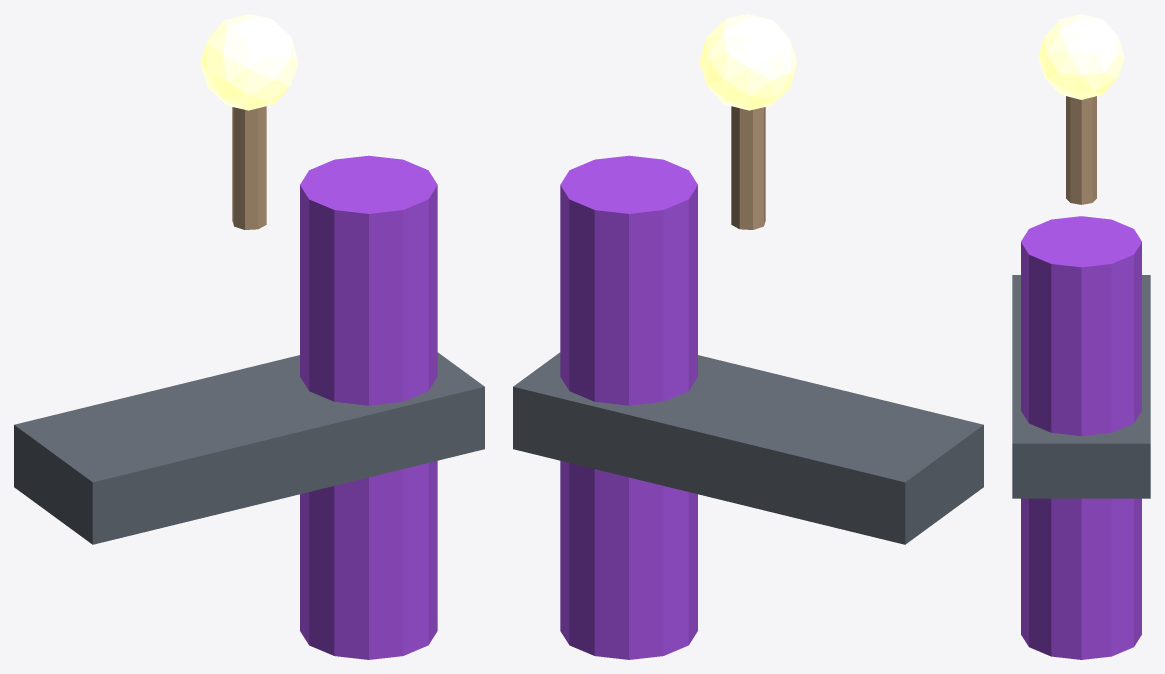
Rendered from dinamita2.glb.
3 views of the same model, side by side, from view 1: azimuth 30°, elevation 25°; view 2: azimuth 150°, elevation 25°; view 3: azimuth 270°, elevation 25° (orthographic). The views are drawn at different scales.
Visible parts, largest first — view 1: cartucho, cinta, chispa, mecha; view 2: cartucho, cinta, chispa, mecha; view 3: cartucho, cinta, chispa, mecha.
Boxes of the visible parts, x1=… form: cartucho: x1=300, y1=155, x2=437, y2=659; cinta: x1=14, y1=352, x2=484, y2=544; chispa: x1=200, y1=14, x2=298, y2=110; mecha: x1=232, y1=106, x2=266, y2=229; cartucho: x1=560, y1=155, x2=697, y2=659; cinta: x1=513, y1=352, x2=983, y2=544; chispa: x1=699, y1=14, x2=797, y2=110; mecha: x1=731, y1=106, x2=765, y2=229; cartucho: x1=1021, y1=216, x2=1141, y2=659; cinta: x1=1012, y1=275, x2=1150, y2=498; chispa: x1=1038, y1=14, x2=1124, y2=99; mecha: x1=1066, y1=96, x2=1096, y2=204.
Size of the model in its own units: 0.575 by 0.9 by 0.2.
